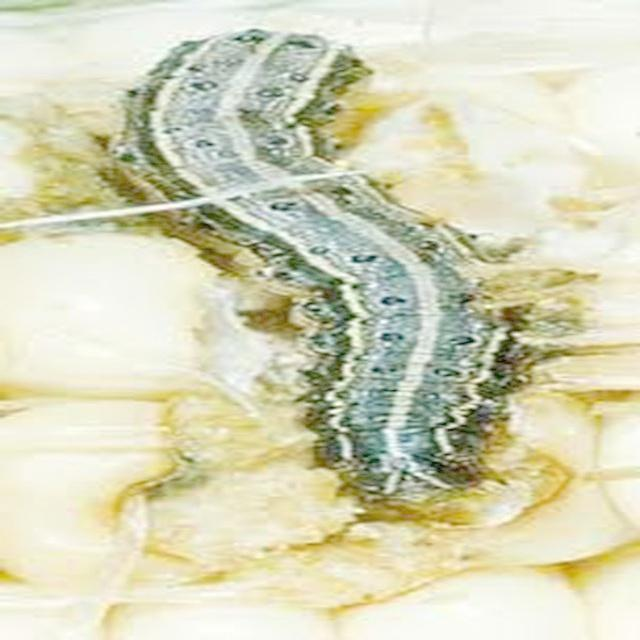gusano_cogollero: (127, 28, 510, 495)
